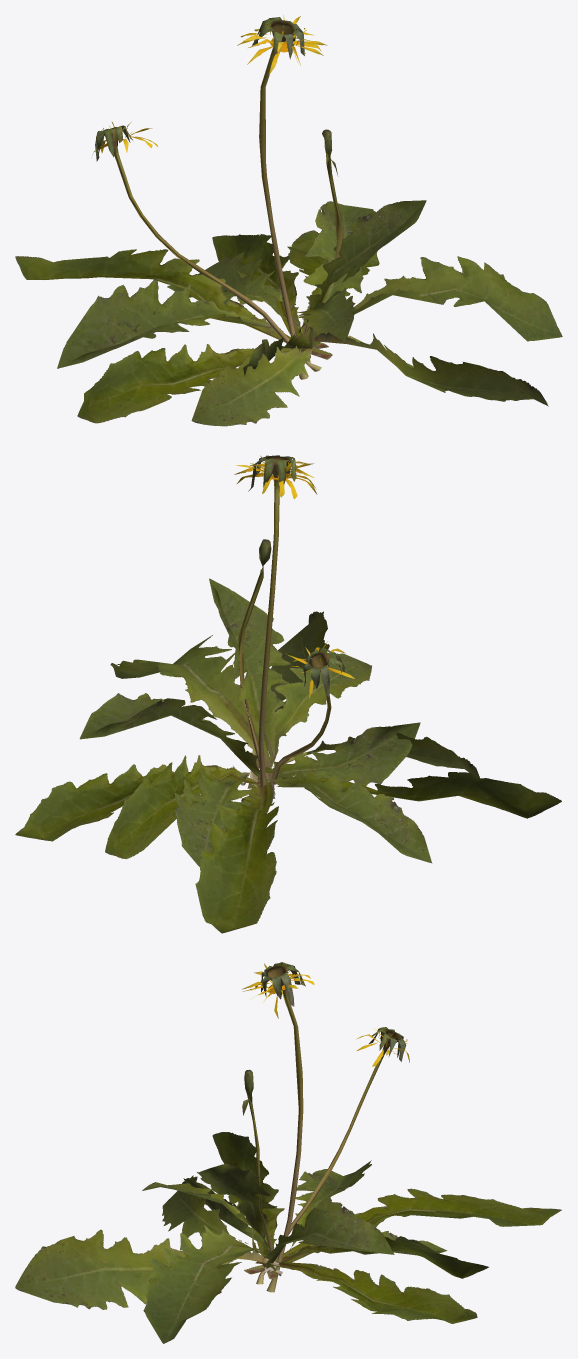
The picture shows the model from 3 angles, top to bottom: view 1: azimuth 30°, elevation 25°; view 2: azimuth 150°, elevation 25°; view 3: azimuth 270°, elevation 25°; orthographic projection. The views are drawn at different scales.
Visible parts, largest first — view 1: dandelion_01__a_lod0; view 2: dandelion_01__a_lod0; view 3: dandelion_01__a_lod0.
Part boxes in pixels (x1=…): dandelion_01__a_lod0: x1=15, y1=15, x2=562, y2=426; dandelion_01__a_lod0: x1=15, y1=455, x2=561, y2=933; dandelion_01__a_lod0: x1=15, y1=962, x2=561, y2=1343.
Size of the model in its own units: 0.2353 by 0.1747 by 0.2748.
Materials: 1 (1 with a texture image).
